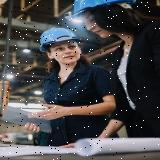Helmet: (69, 0, 155, 19), (39, 27, 83, 53)
